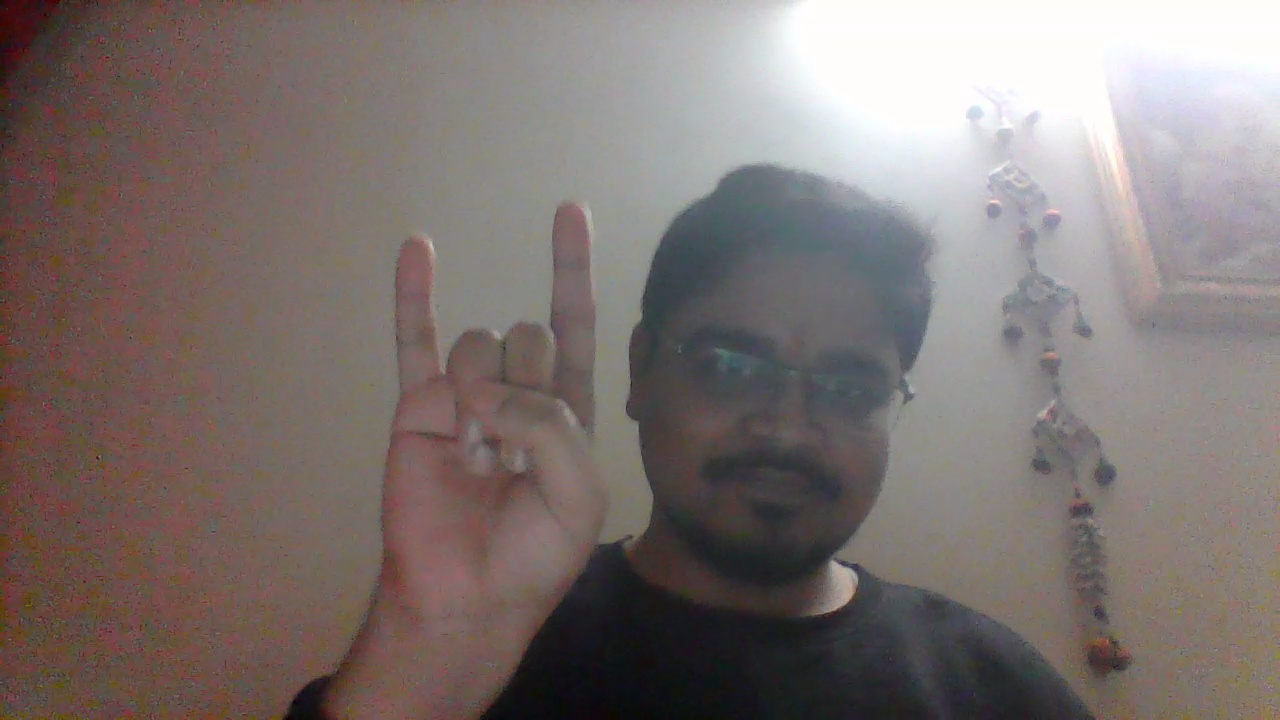ILoveYou: (373, 195, 617, 679)
